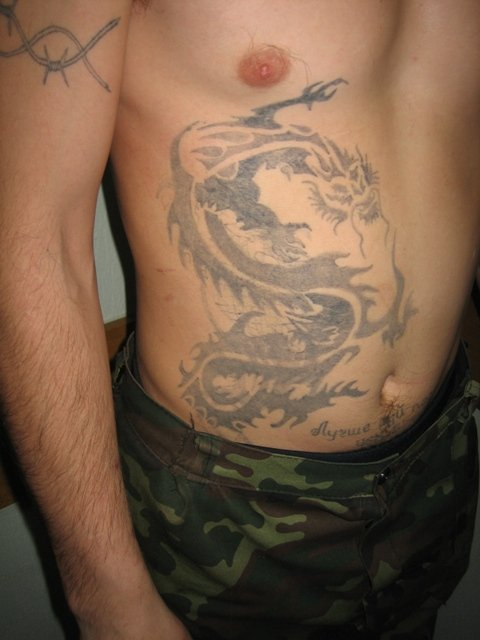tatu3_bukva: (313, 423, 401, 442)
tatu6_drakon: (151, 76, 379, 410)
